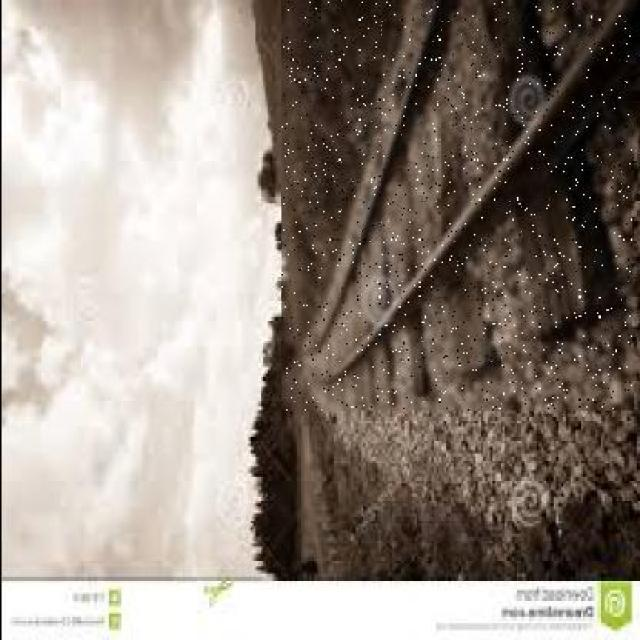rail: (281, 0, 631, 411)
